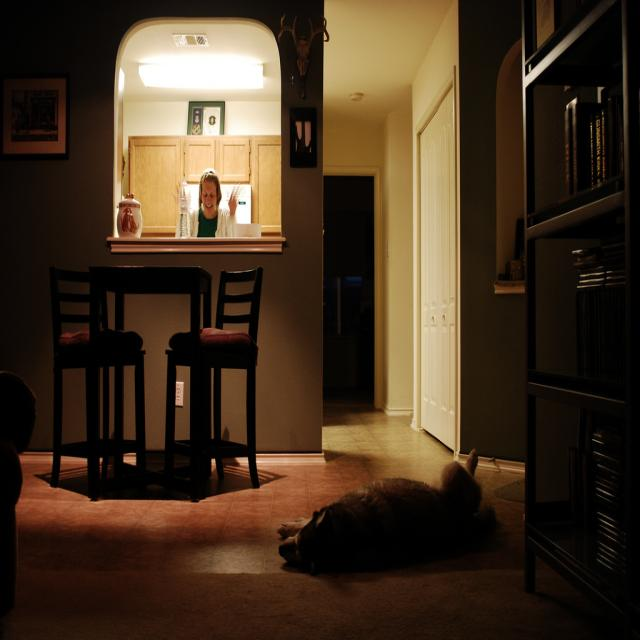dog: (266, 431, 548, 639)
